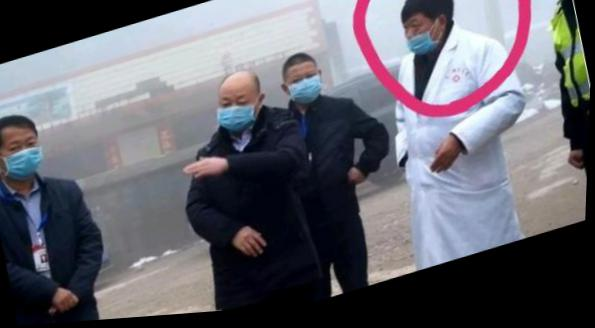OK: (1, 123, 48, 186), (214, 84, 266, 140), (283, 64, 326, 113)
WRONG: (402, 19, 445, 67)
